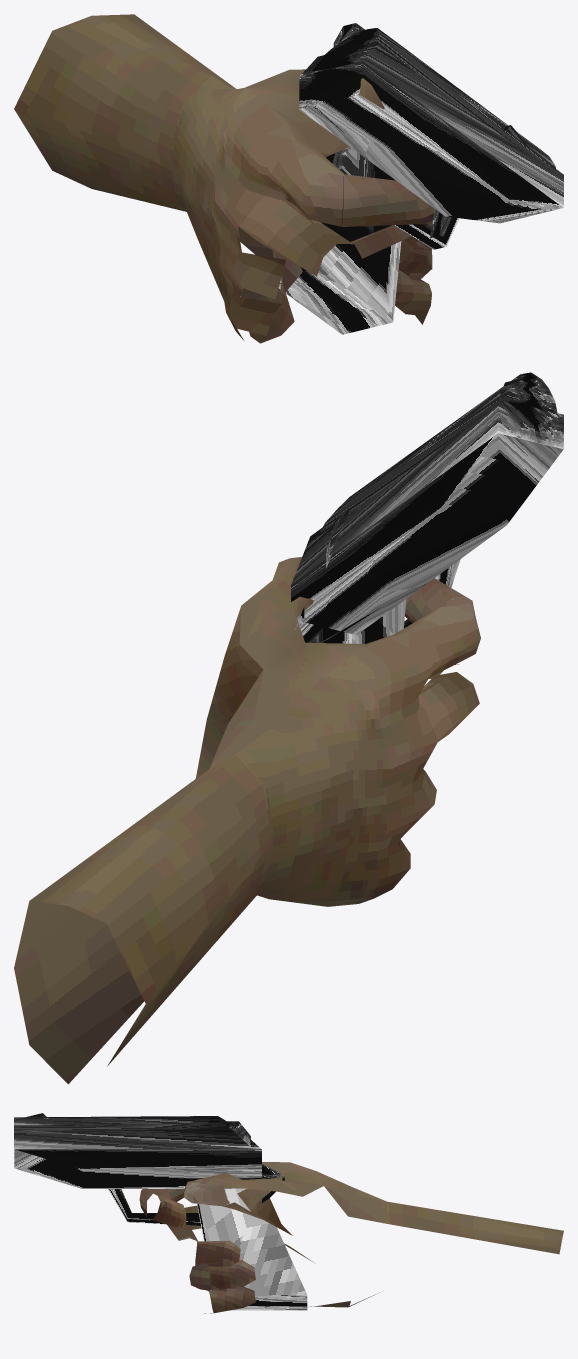
The model's file is gun.glb.
3 renders of one model, top to bottom at view 1: azimuth 30°, elevation 25°; view 2: azimuth 150°, elevation 25°; view 3: azimuth 270°, elevation 25°, orthographic. The views are drawn at different scales.
Parts seen in each view (by area): view 1: m4EnvMappingTexScaleS0.062501TexScaleT0.062501, m7ClampSClampT, m10ClampSClampT, m5ClampSClampT, m6ClampSClampT, m8ClampSClampT, m9ClampSClampT; view 2: m7ClampSClampT, m4EnvMappingTexScaleS0.062501TexScaleT0.062501, m10ClampSClampT, m6ClampSClampT, m8ClampSClampT, m9ClampSClampT, m5ClampSClampT; view 3: m4EnvMappingTexScaleS0.062501TexScaleT0.062501, m10ClampSClampT, m6ClampSClampT, m8ClampSClampT, m5ClampSClampT, m9ClampSClampT, m7ClampSClampT.
Part boxes in pixels (box(x1,y1,x2,y2)): m4EnvMappingTexScaleS0.062501TexScaleT0.062501: box(278, 23, 563, 334); m7ClampSClampT: box(173, 76, 351, 341); m10ClampSClampT: box(14, 14, 236, 211); m5ClampSClampT: box(301, 172, 434, 269); m6ClampSClampT: box(395, 221, 432, 324); m8ClampSClampT: box(214, 69, 384, 125); m9ClampSClampT: box(238, 148, 349, 343); m7ClampSClampT: box(237, 605, 480, 906); m4EnvMappingTexScaleS0.062501TexScaleT0.062501: box(291, 372, 563, 643); m10ClampSClampT: box(29, 754, 274, 1066); m6ClampSClampT: box(14, 901, 144, 1084); m8ClampSClampT: box(209, 558, 365, 768); m9ClampSClampT: box(195, 606, 263, 778); m5ClampSClampT: box(291, 557, 480, 678); m4EnvMappingTexScaleS0.062501TexScaleT0.062501: box(14, 1113, 307, 1310); m10ClampSClampT: box(385, 1201, 563, 1254); m6ClampSClampT: box(148, 1195, 255, 1313); m8ClampSClampT: box(224, 1162, 387, 1223); m5ClampSClampT: box(139, 1173, 229, 1290); m9ClampSClampT: box(223, 1198, 380, 1307); m7ClampSClampT: box(184, 1162, 386, 1229).
Size of the model in its own units: 84 by 168 by 364.
Materials: 7 (7 with a texture image).
